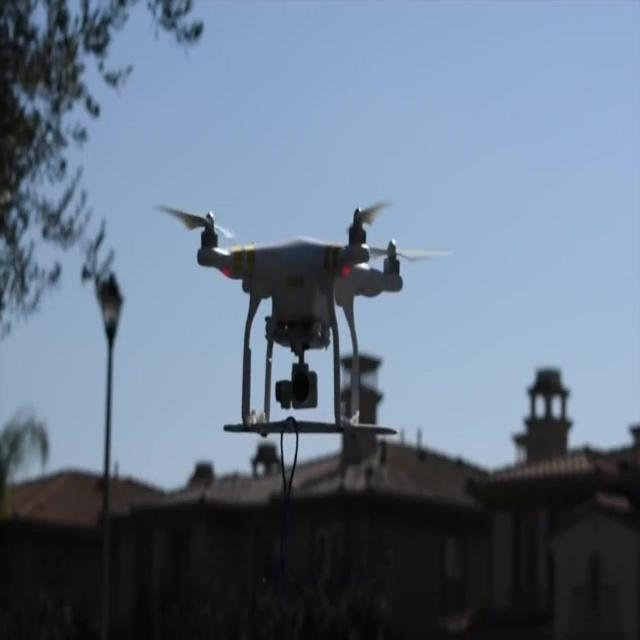UAV: (153, 199, 449, 436)
